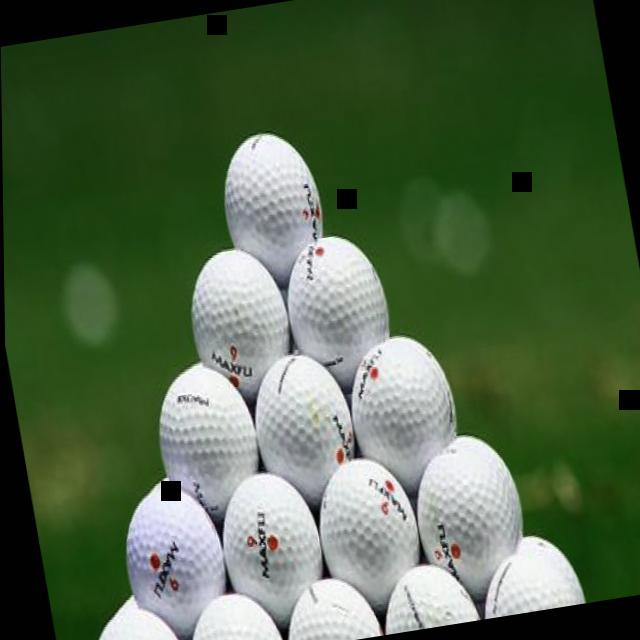golf ball: (338, 320, 473, 499), (145, 341, 274, 521), (272, 230, 403, 402), (205, 112, 333, 286), (174, 237, 302, 405), (241, 338, 367, 500), (110, 474, 234, 636), (307, 448, 427, 612), (401, 432, 524, 586), (209, 462, 332, 615), (471, 542, 583, 620), (373, 562, 481, 636), (274, 571, 379, 640), (178, 584, 285, 640), (77, 596, 183, 640)
